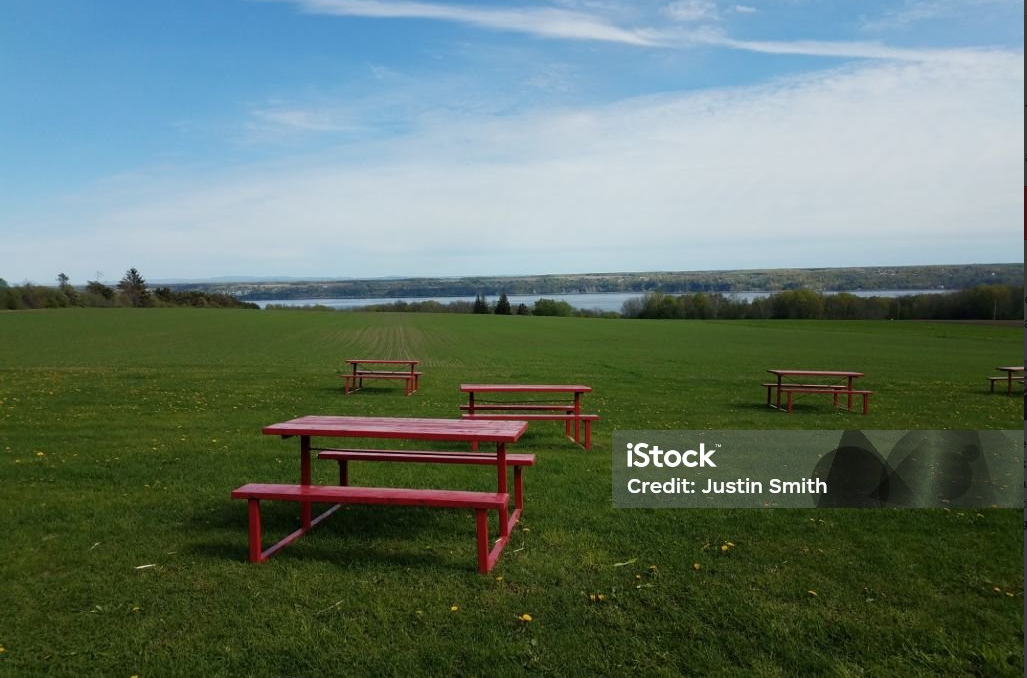obstacle: (225, 407, 537, 570), (464, 381, 610, 447), (755, 361, 881, 423), (332, 351, 423, 397)
